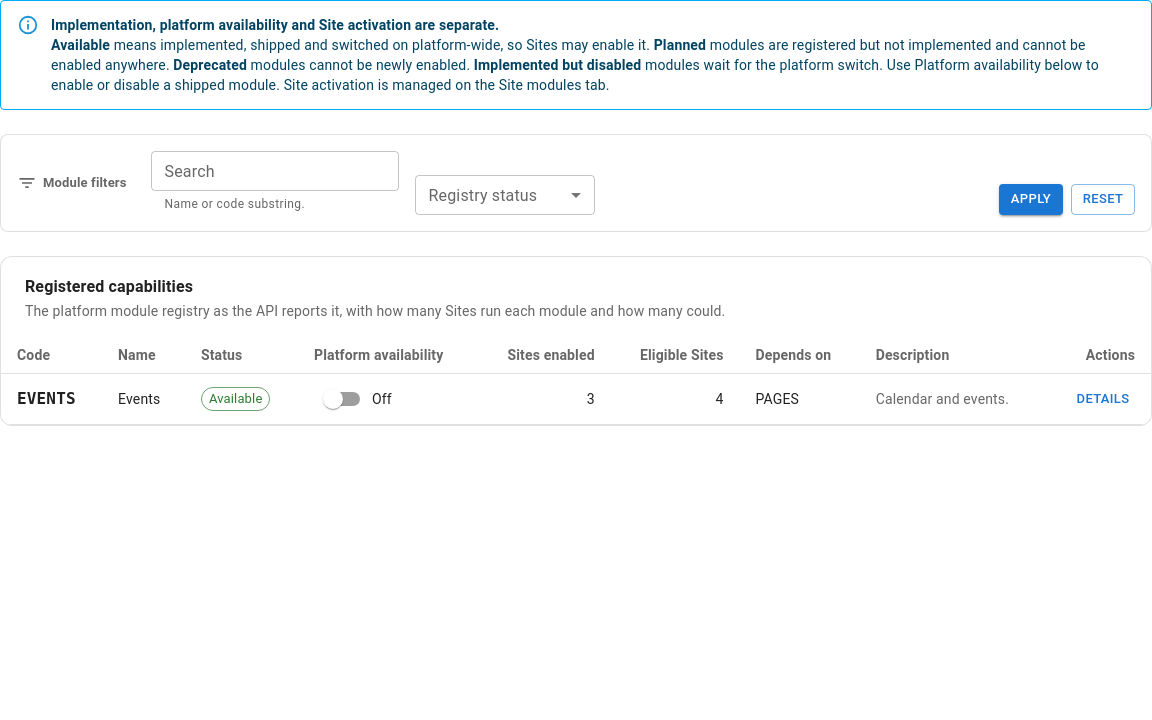
it: ModuleRegistry › enables a shipped default-disabled module only after confirmation and refreshes
Click the checkbox named "Platform availability for EVENTS".
click(333, 399)  # box [323,389,343,409]
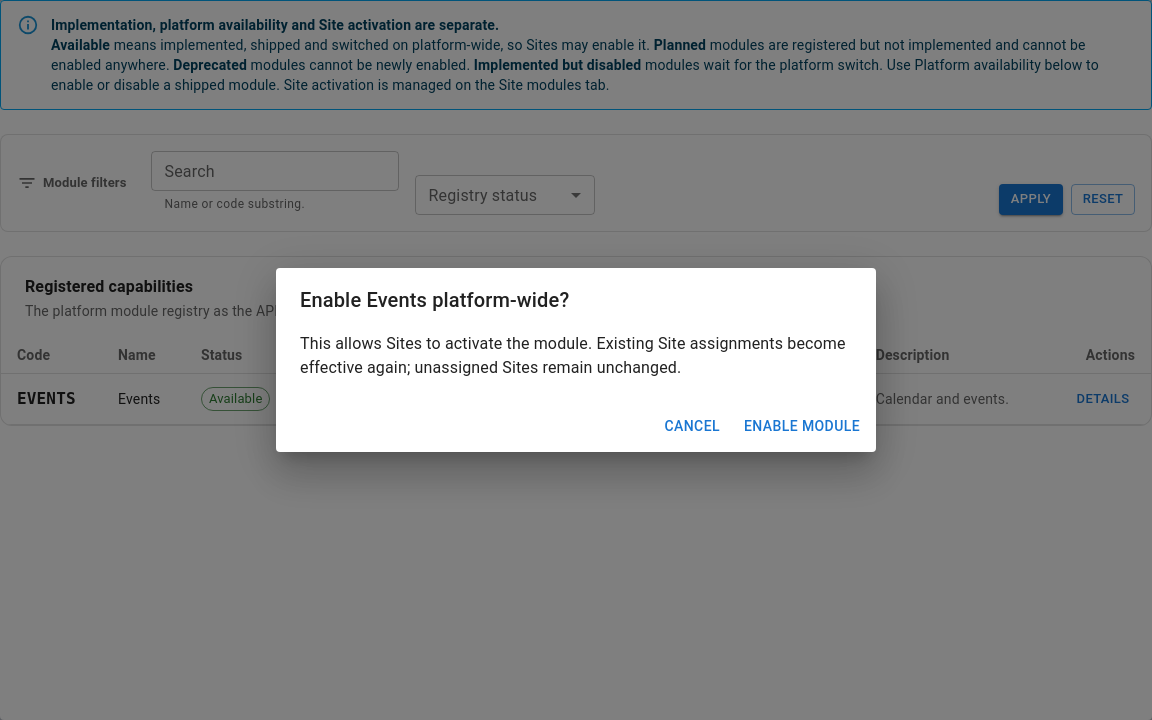
Click the button "Enable module".
click(802, 426)  # box [736,408,868,444]
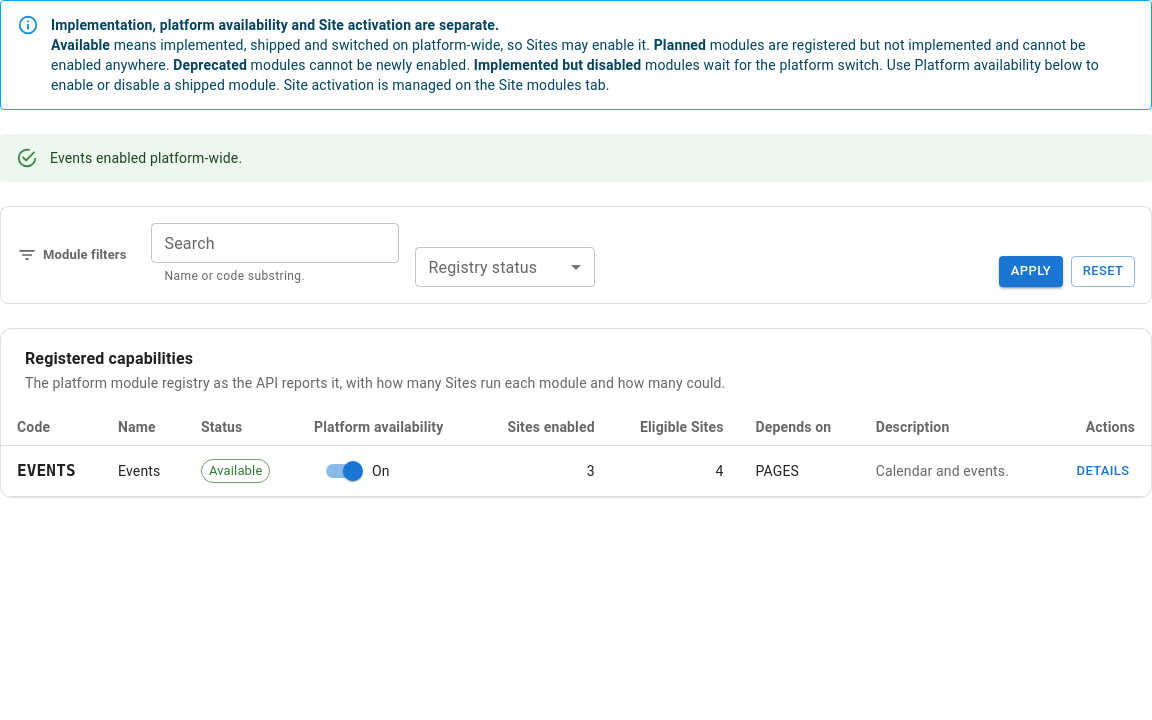
Result: the text "Events enabled platform-wide." is shown at [50,150,242,166]
Result: the checkbox named "Platform availability for EVENTS" is checked at [343,461,363,481]
